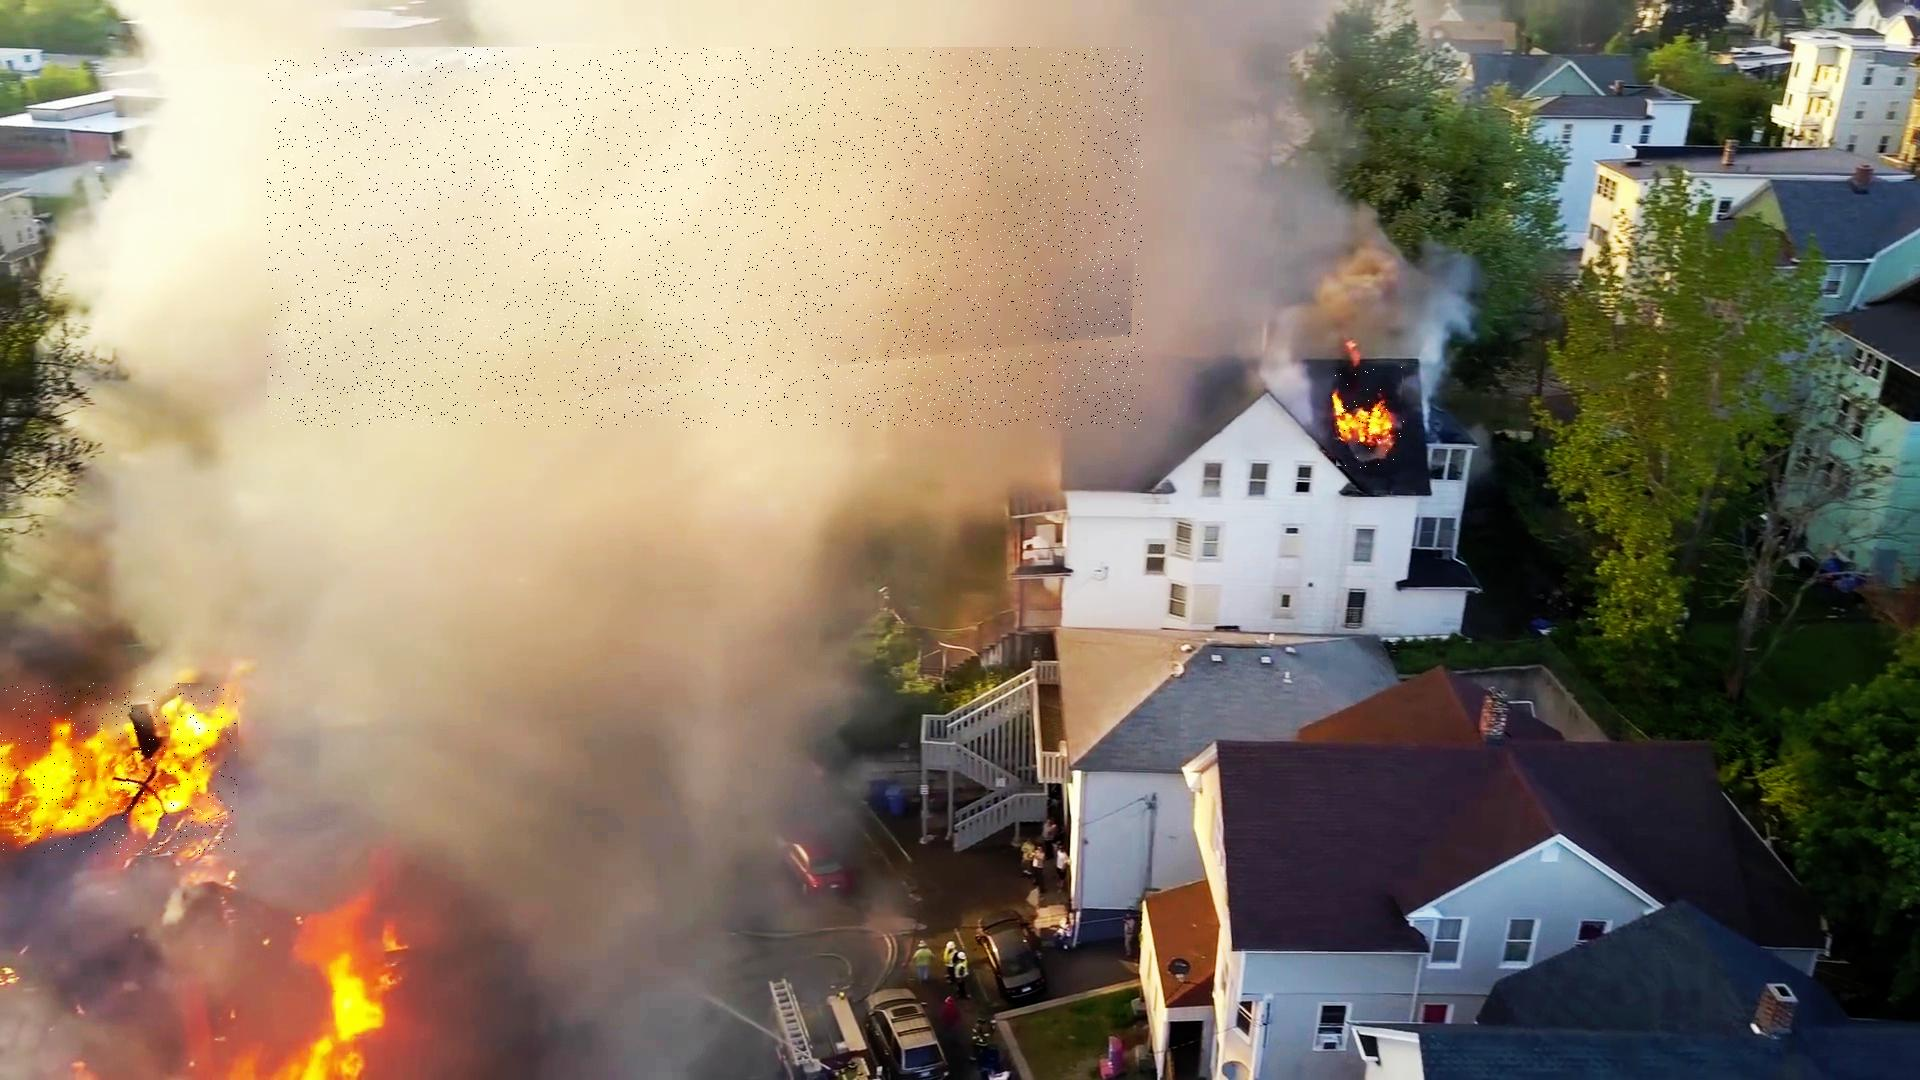fire: (0, 683, 237, 855), (1333, 368, 1404, 468)
smoke: (268, 47, 1143, 429)
